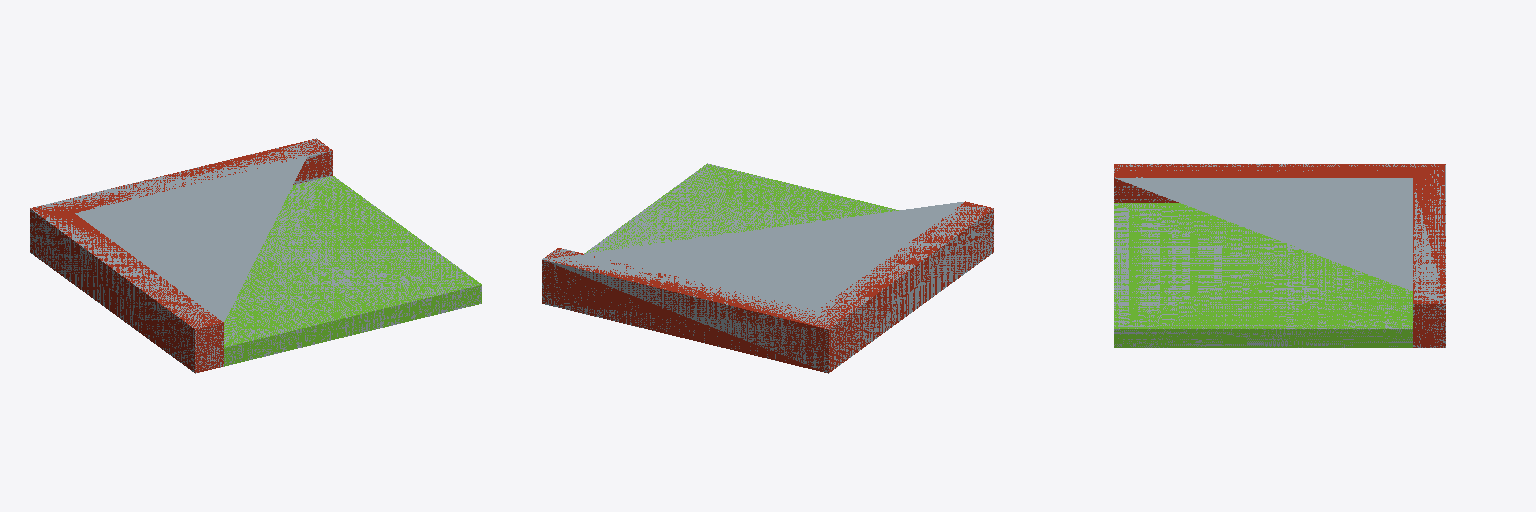
File: Corner_01.obj
3 renders of one model, left to right at view 1: azimuth 30°, elevation 25°; view 2: azimuth 150°, elevation 25°; view 3: azimuth 270°, elevation 25°, orthographic.
Parts seen in each view (by area): view 1: Mesh1 Corner Model; view 2: Mesh1 Corner Model; view 3: Mesh1 Corner Model.
Boxes of the visible parts, x1=… form: Mesh1 Corner Model: x1=30, y1=138, x2=481, y2=373; Mesh1 Corner Model: x1=542, y1=163, x2=993, y2=373; Mesh1 Corner Model: x1=1114, y1=164, x2=1445, y2=347.
Size of the model in its own units: 3 by 0.44 by 3.